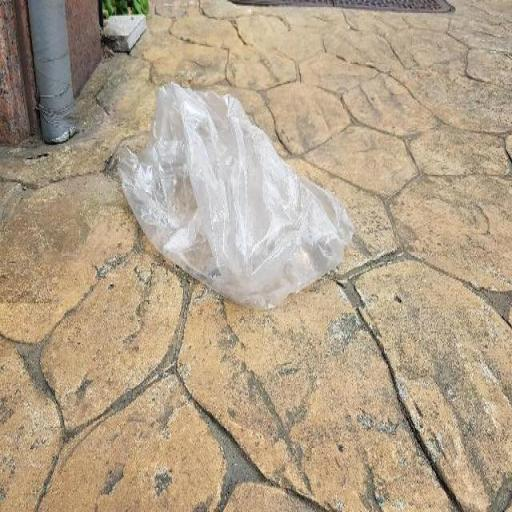plastic-bag: (117, 79, 358, 313)
